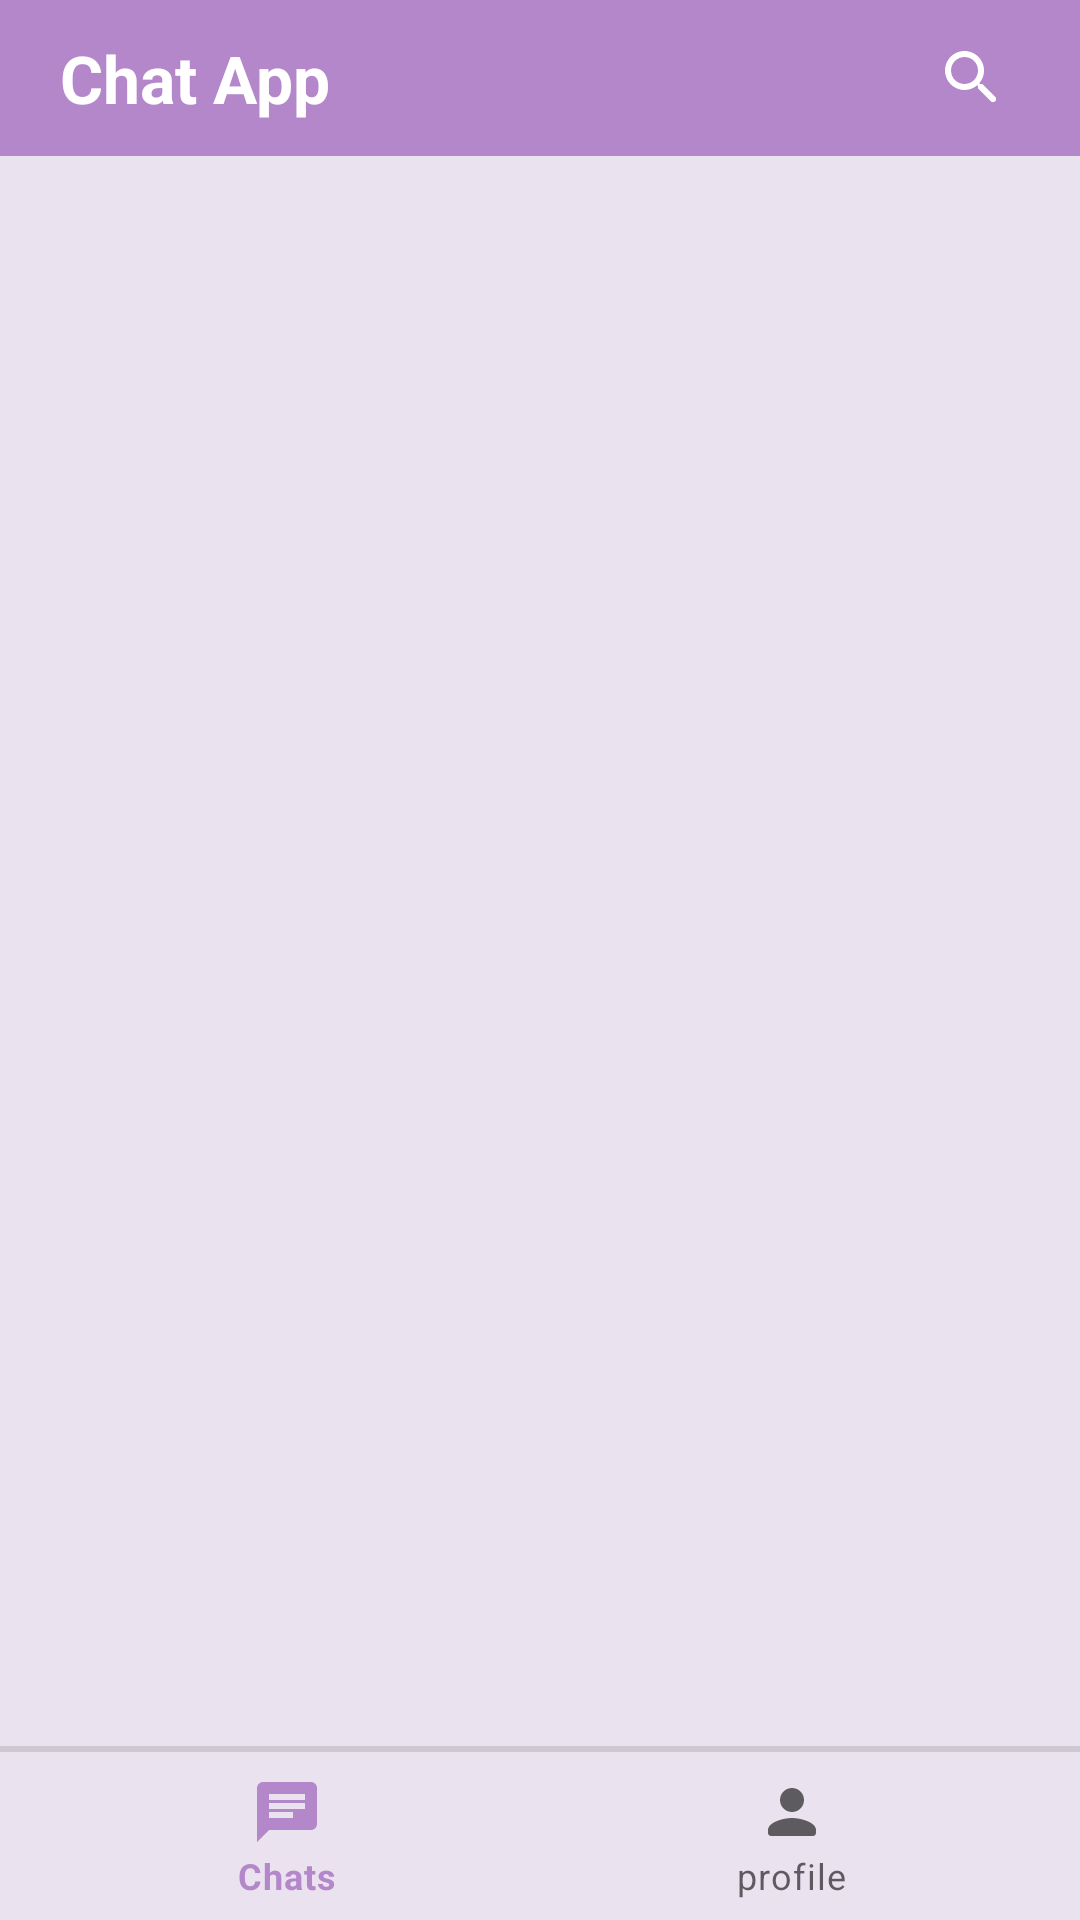

Icons on this 1080px×1920px Android screen, each with the point to tap as [x,y]:
search: [970,76]
